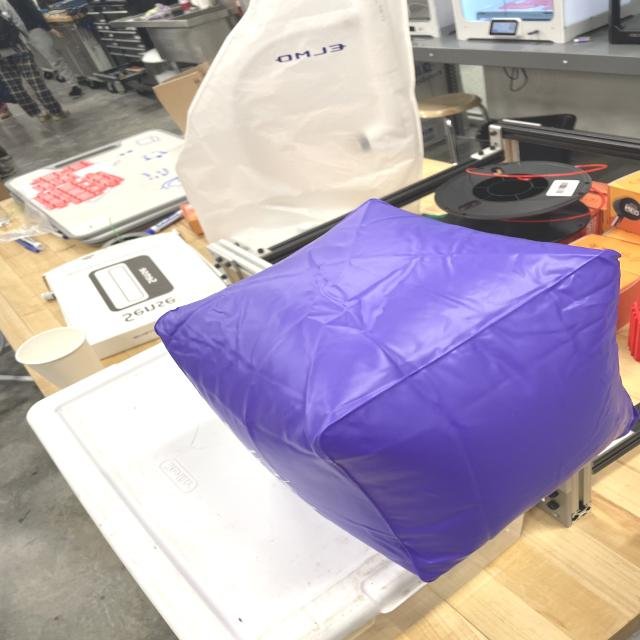frc_cube: (150, 196, 631, 583)
